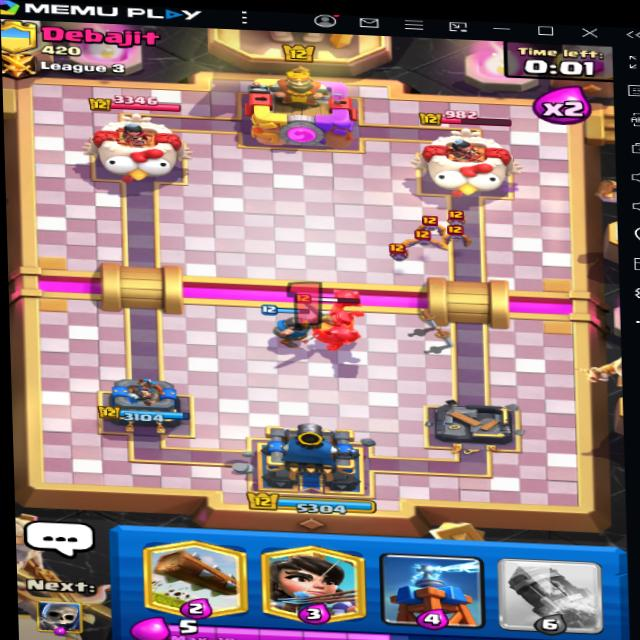bats: (378, 235, 421, 270), (441, 198, 474, 228), (404, 229, 437, 253), (414, 206, 442, 231), (450, 232, 480, 248)
mega-knight: (288, 282, 374, 354)
